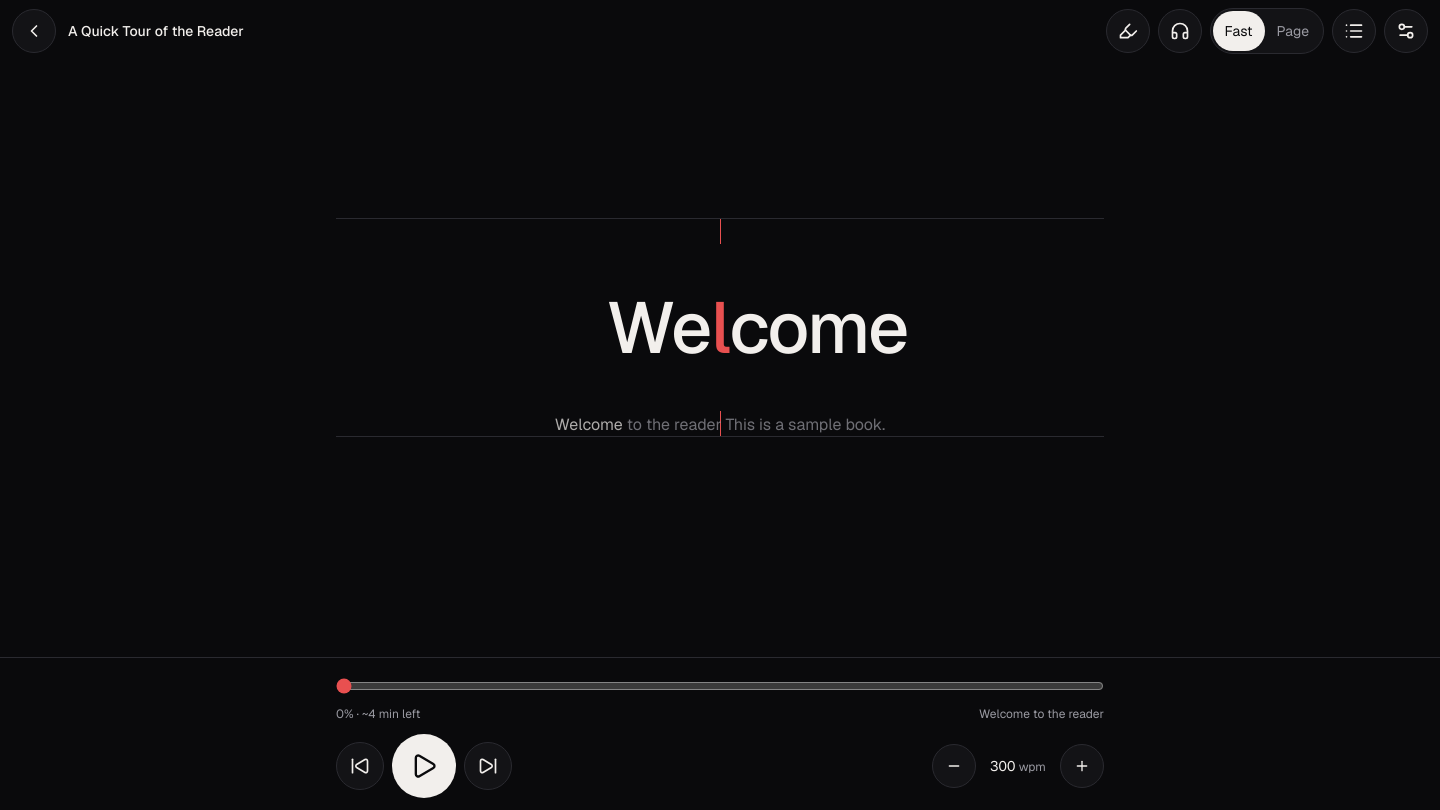
Test: ReaderApp › up/down change the speed in steps of 25 and remember it
The width and height of the screenshot is (1440, 810).
Press ArrowUp
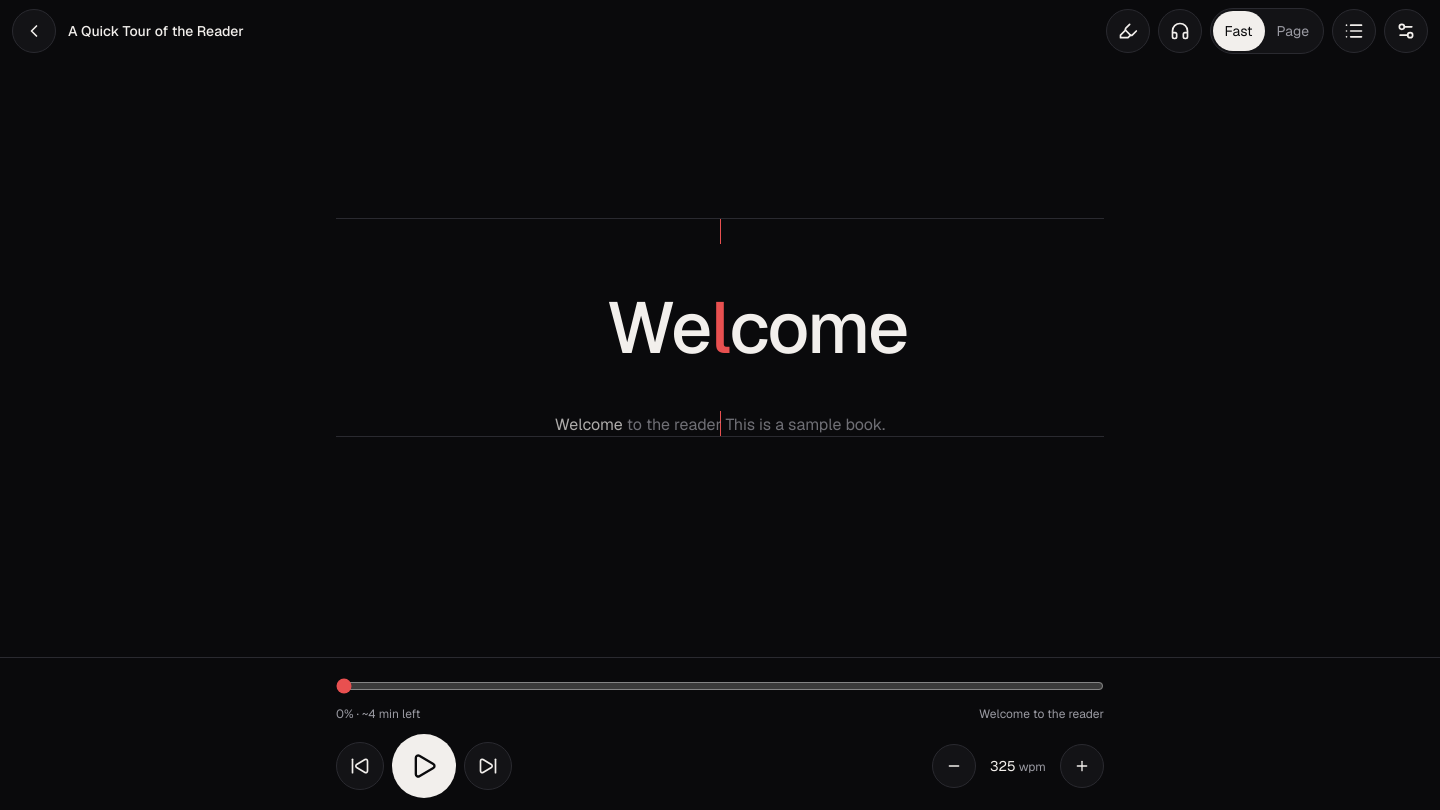
Press ArrowUp
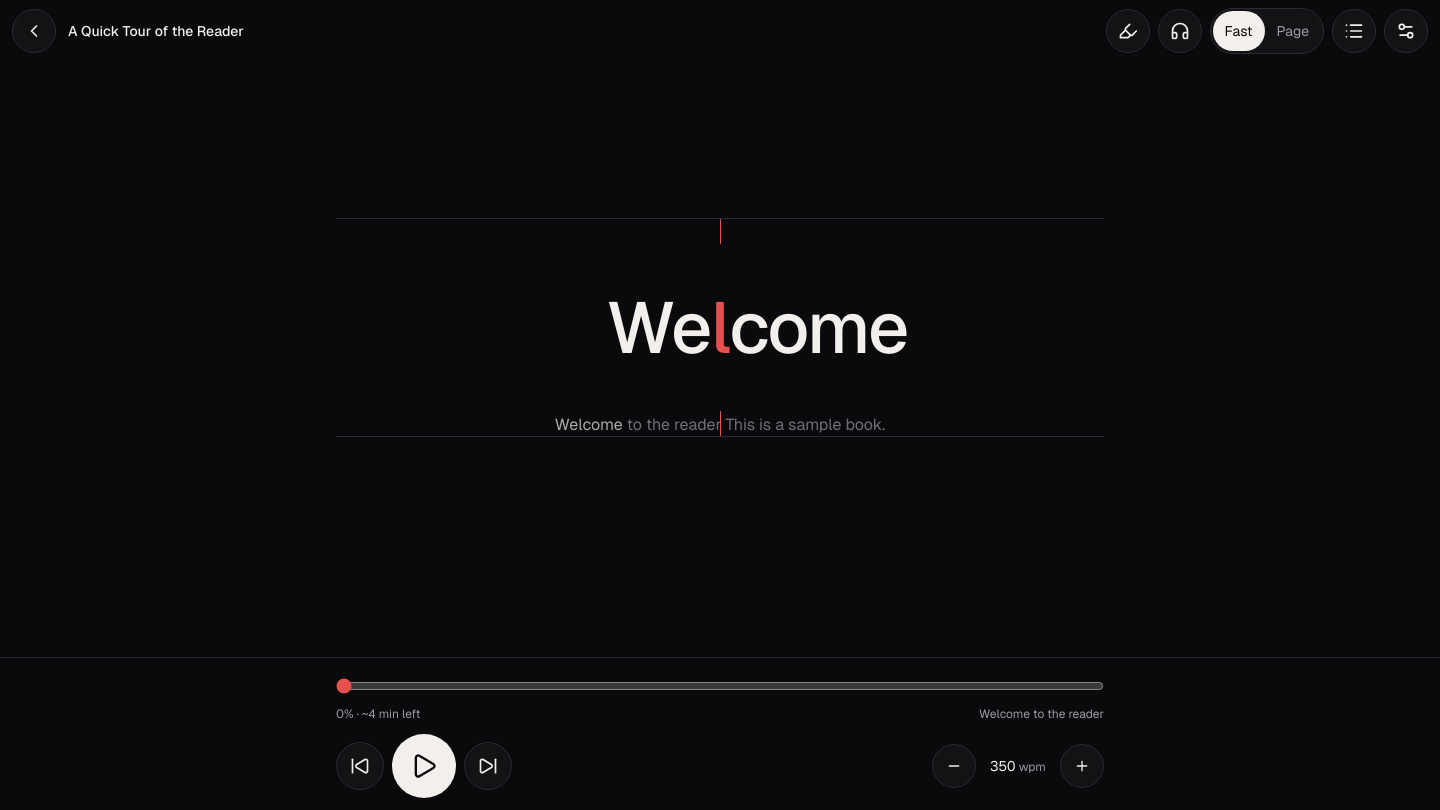
Expected: the message with test id "reader-wpm" shows "350", [990, 757, 1015, 775]
Press ArrowDown
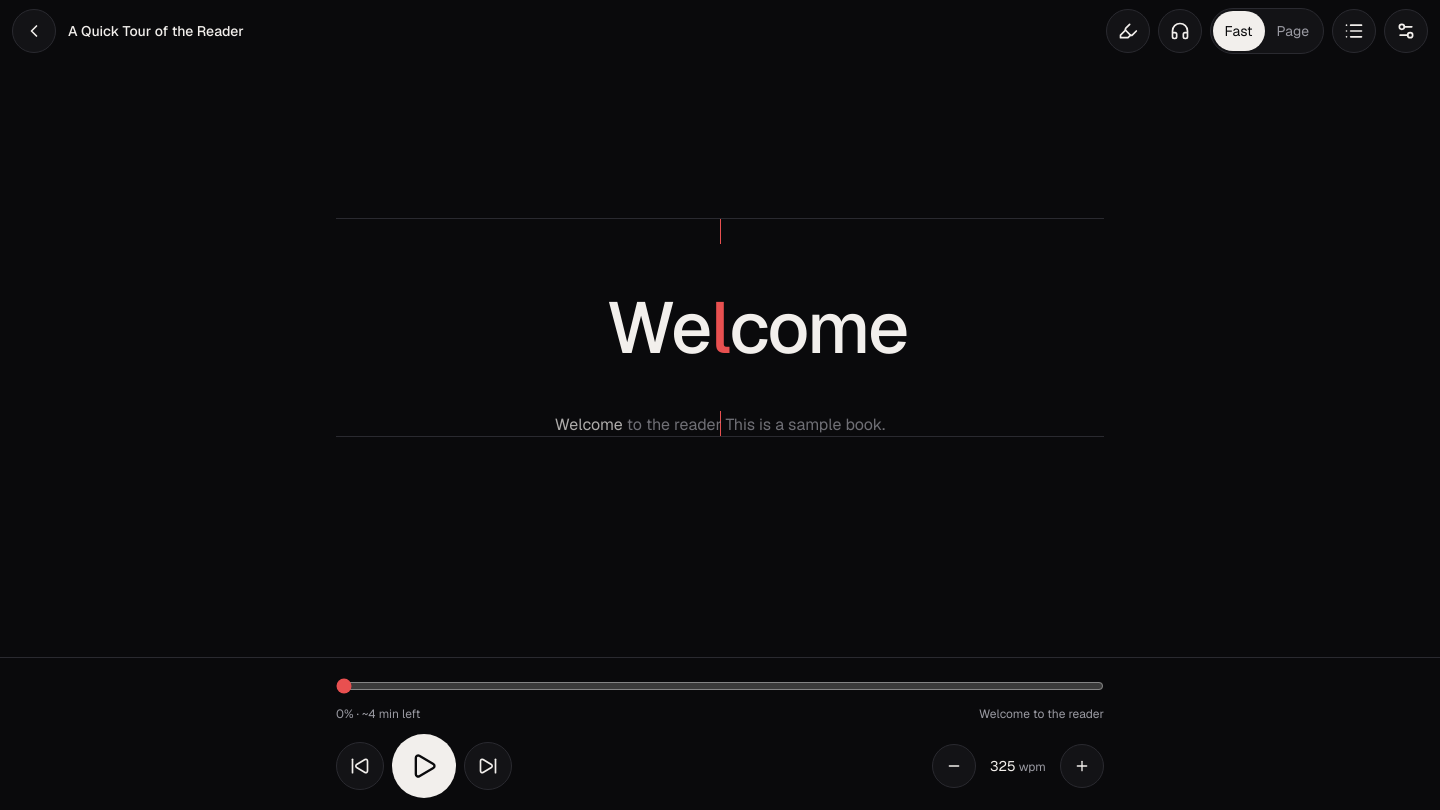
Expected: the message with test id "reader-wpm" shows "325", [990, 757, 1015, 775]
Click the button named "Faster".
click(1082, 766)  # box [1060, 744, 1104, 788]
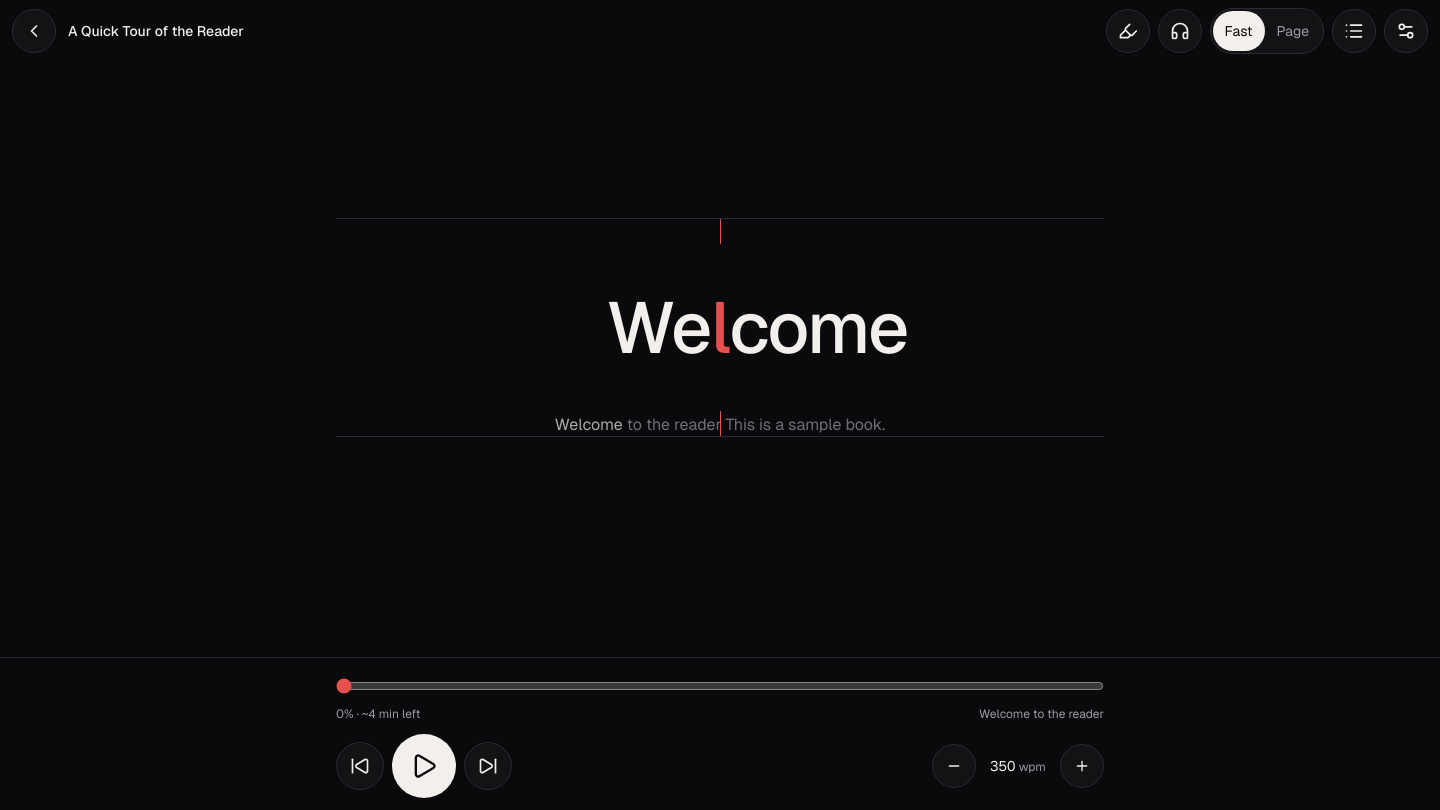
Expected: the message with test id "reader-wpm" shows "350", [990, 757, 1015, 775]
Click the button named "Slower".
click(954, 766)  # box [932, 744, 976, 788]
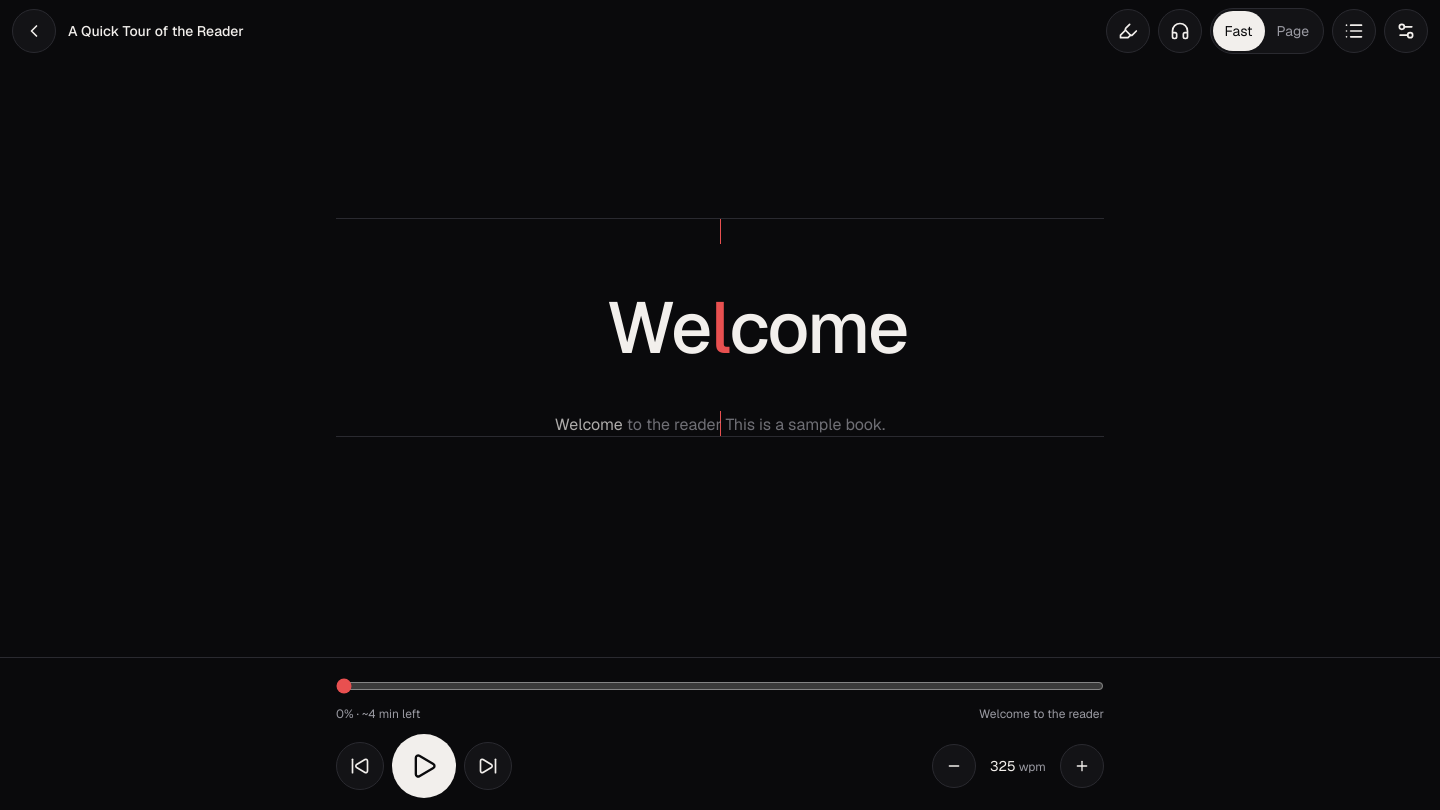
Expected: the message with test id "reader-wpm" shows "325", [990, 757, 1015, 775]
